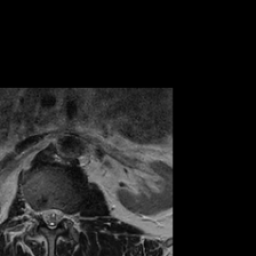CCS_normal: (47, 199, 54, 234)
LFS_stenosis: (63, 204, 70, 227)
LLS_normal: (54, 201, 63, 226)
RFS_normal: (33, 201, 40, 224)
RLS_normal: (39, 202, 47, 224)
